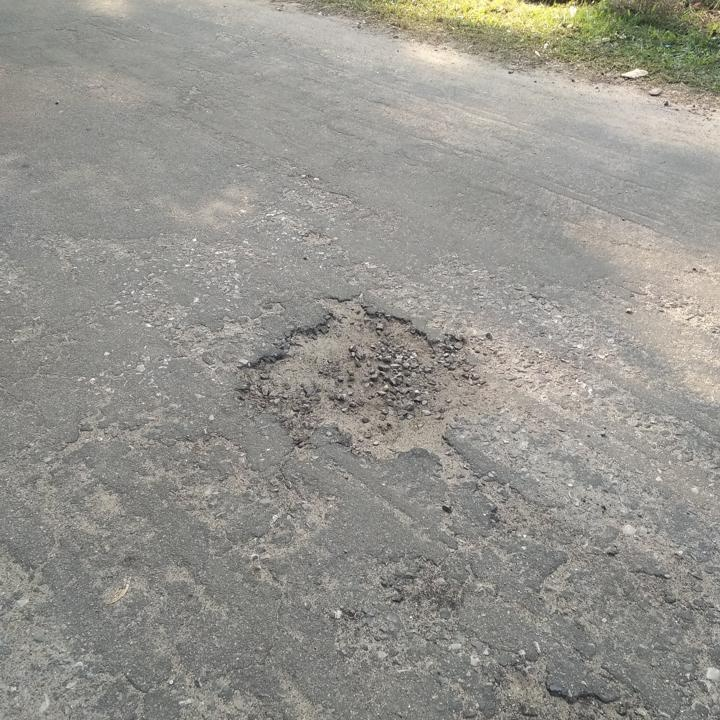pothole: (232, 290, 504, 464), (483, 656, 645, 719)
